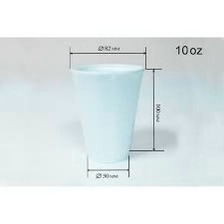paper_cup: (64, 57, 150, 166)
